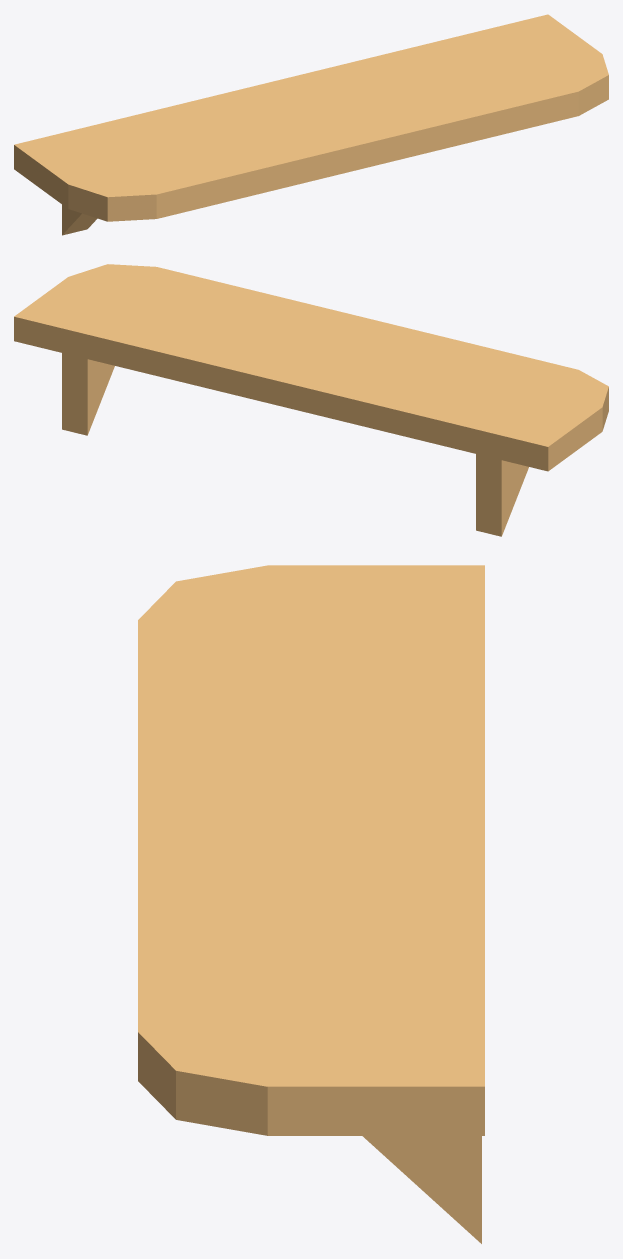
Rendered from shelf.glb.
3 renders of one model, top to bottom at view 1: azimuth 30°, elevation 25°; view 2: azimuth 150°, elevation 25°; view 3: azimuth 270°, elevation 25°, orthographic. The views are drawn at different scales.
Parts seen in each view (by area): view 1: Shelf_01_Plane.005; view 2: Shelf_01_Plane.005; view 3: Shelf_01_Plane.005.
Boxes of the visible parts, box(x1,y1,x2,y2) form: Shelf_01_Plane.005: box(14, 14, 608, 235); Shelf_01_Plane.005: box(14, 264, 608, 536); Shelf_01_Plane.005: box(138, 565, 484, 1243).
Bounding box in the file's own units: 1.09 × 0.1995 × 0.3078.
